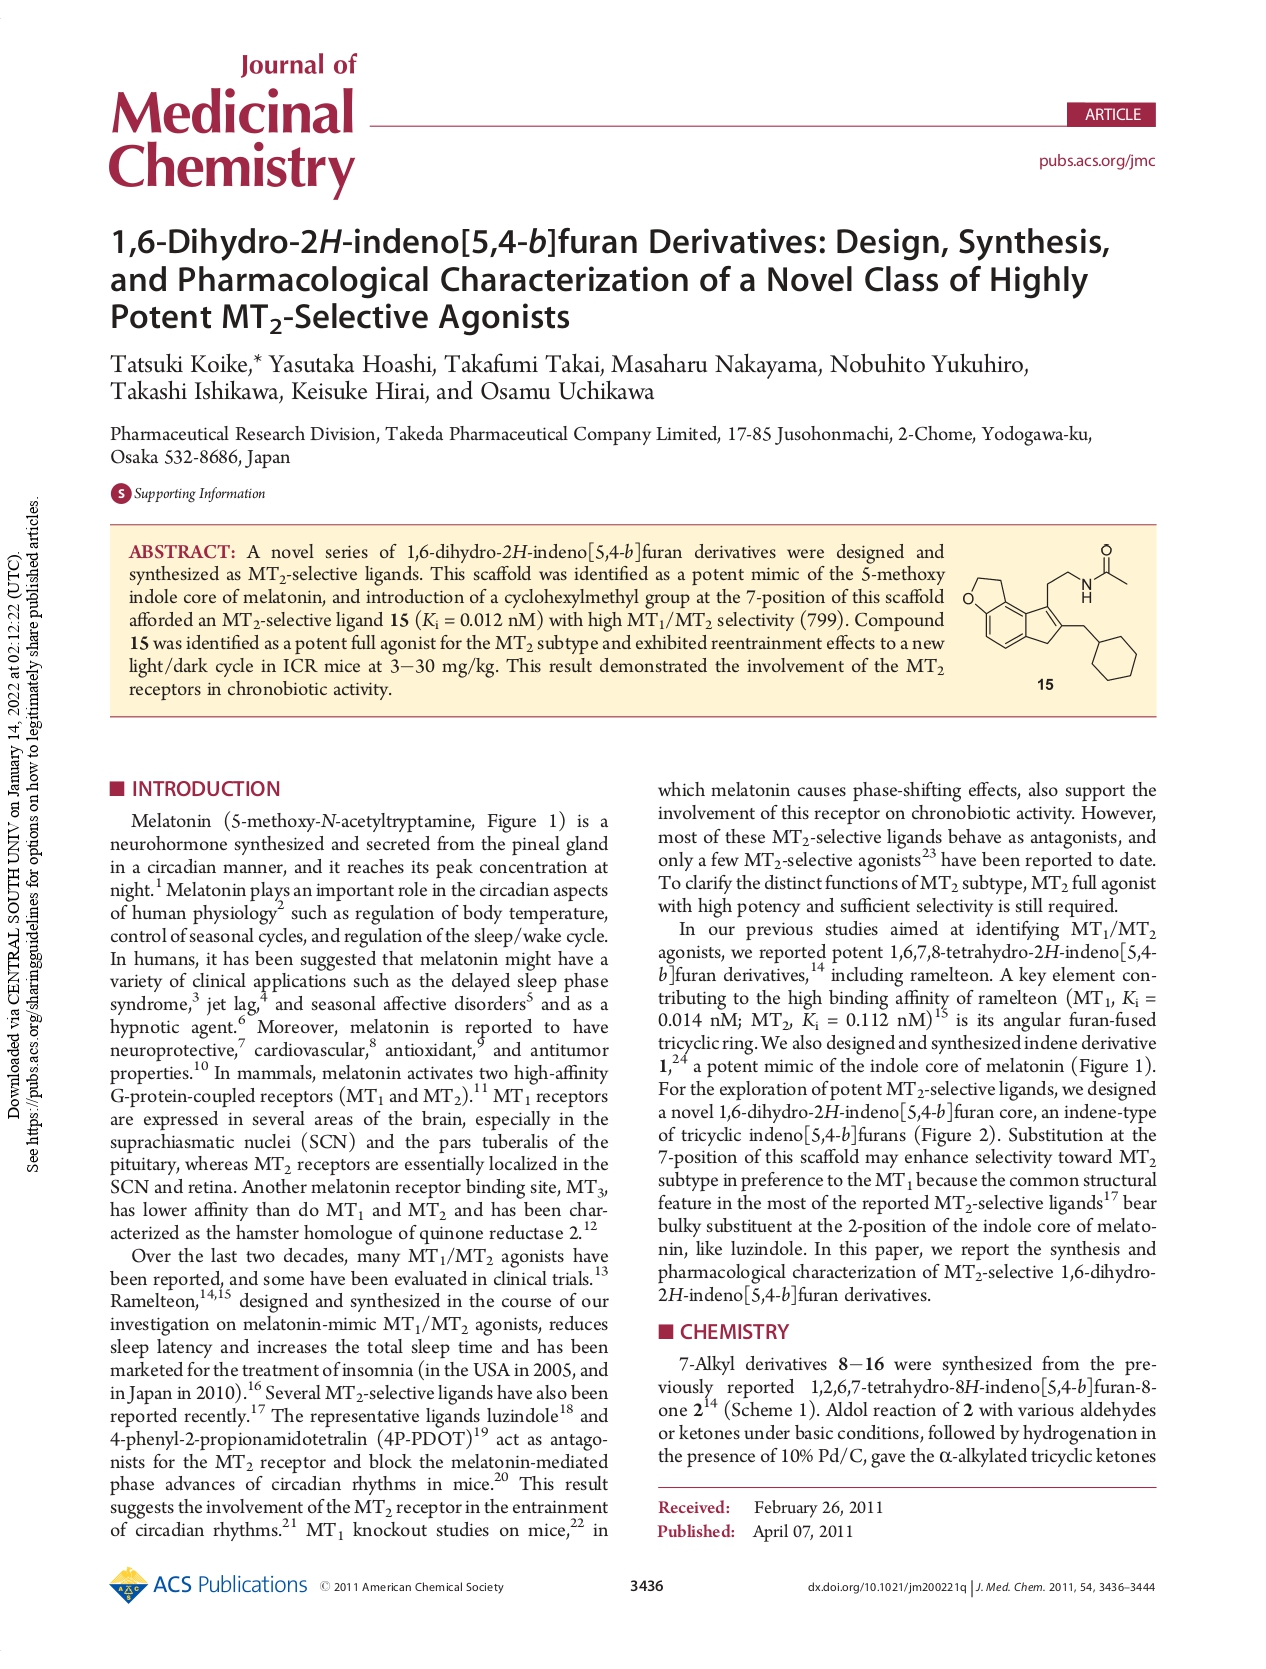exist_molecular: (961, 540, 1138, 682)
